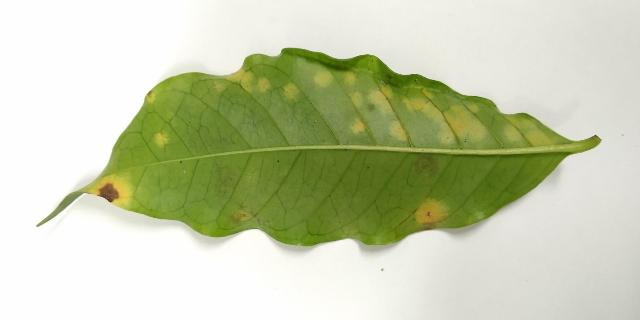miner: (402, 89, 486, 144), (82, 173, 133, 210), (209, 65, 270, 93), (505, 115, 556, 146), (415, 200, 446, 226), (368, 85, 393, 112), (391, 121, 407, 140), (313, 70, 332, 86), (283, 83, 298, 99), (352, 119, 366, 133), (342, 72, 356, 86), (350, 92, 362, 106), (155, 133, 167, 145)
